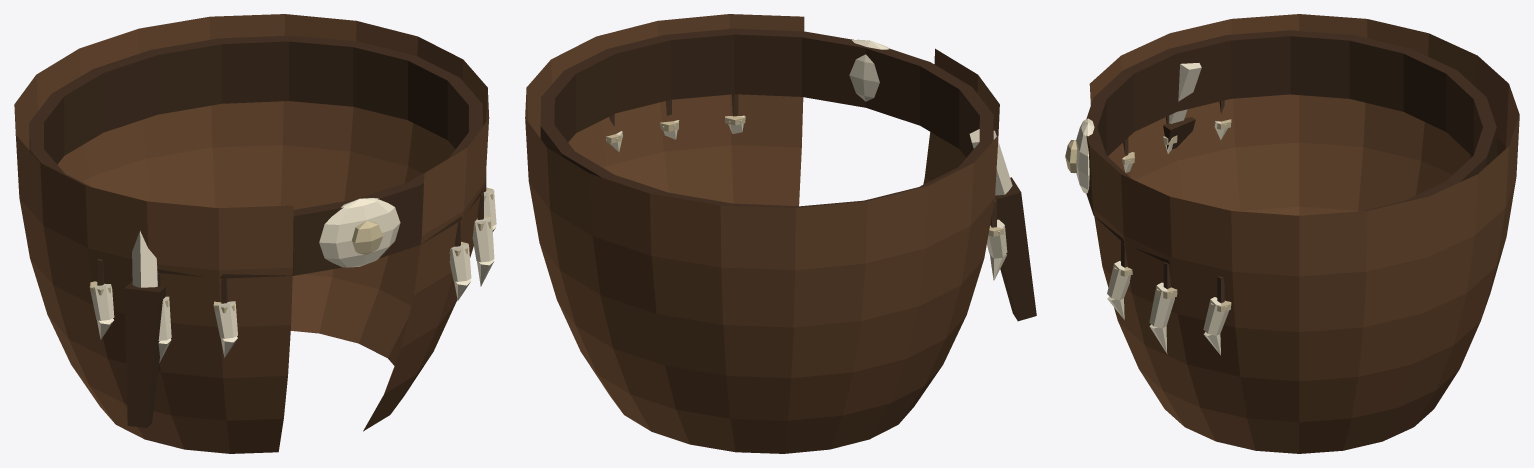
File: varga_skirts.glb
3 renders of one model, left to right at view 1: azimuth 30°, elevation 25°; view 2: azimuth 150°, elevation 25°; view 3: azimuth 270°, elevation 25°, orthographic. The views are drawn at different scales.
Visible parts, largest first — view 1: varga_skirts; view 2: varga_skirts; view 3: varga_skirts.
Boxes of the visible parts, <box> form: varga_skirts: <box>14,14,496,453</box>; varga_skirts: <box>525,14,1036,453</box>; varga_skirts: <box>1065,14,1519,453</box>.
Bounding box in the file's own units: 1.04 × 0.6588 × 0.99.
